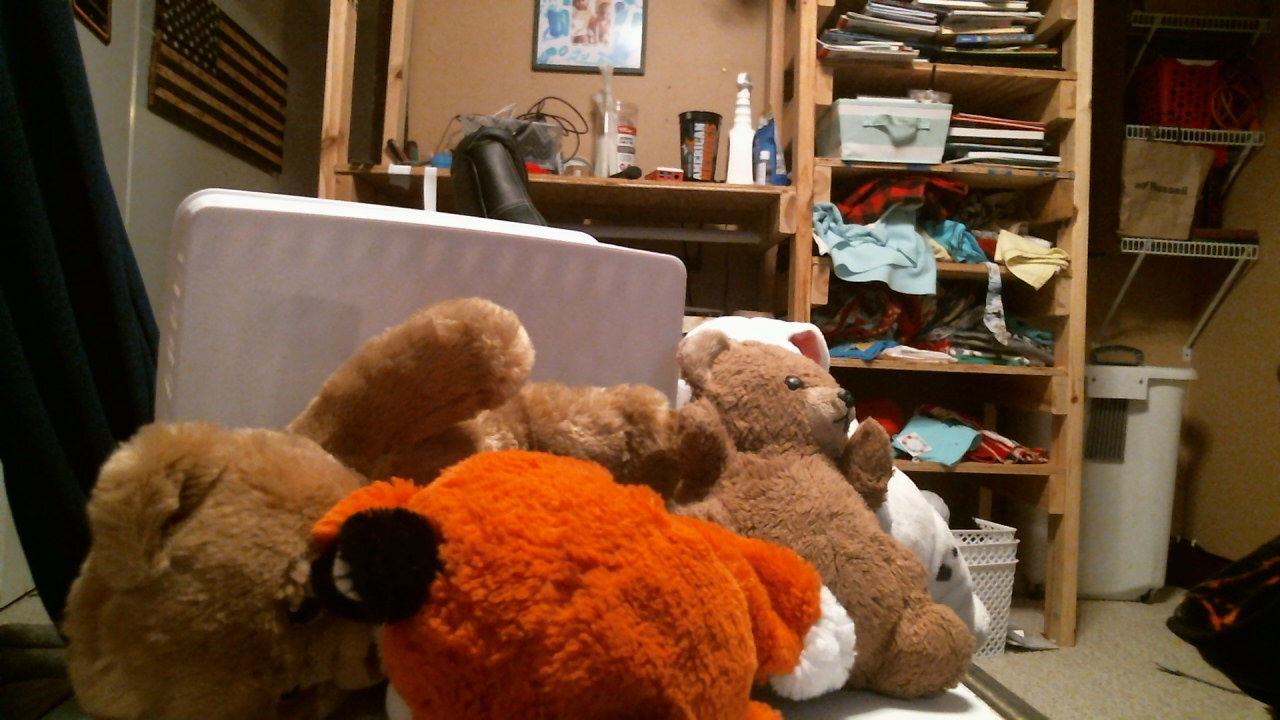Little_Mister_Bear: (785, 377, 859, 464)
